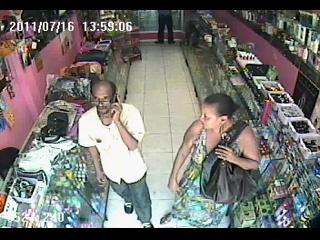Normal: (160, 93, 262, 227), (78, 79, 154, 228), (154, 10, 176, 44), (74, 50, 110, 66)
